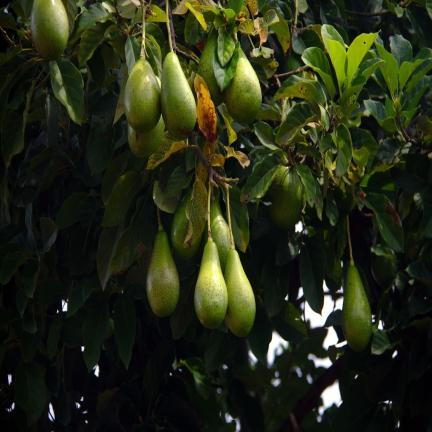pear: (161, 52, 196, 139), (195, 238, 227, 328), (147, 231, 179, 316), (225, 49, 261, 123), (225, 249, 255, 337), (342, 265, 372, 351), (125, 59, 160, 132), (30, 0, 68, 60), (269, 165, 304, 230), (197, 28, 224, 106), (171, 189, 201, 259), (128, 116, 164, 158), (210, 201, 230, 271)
